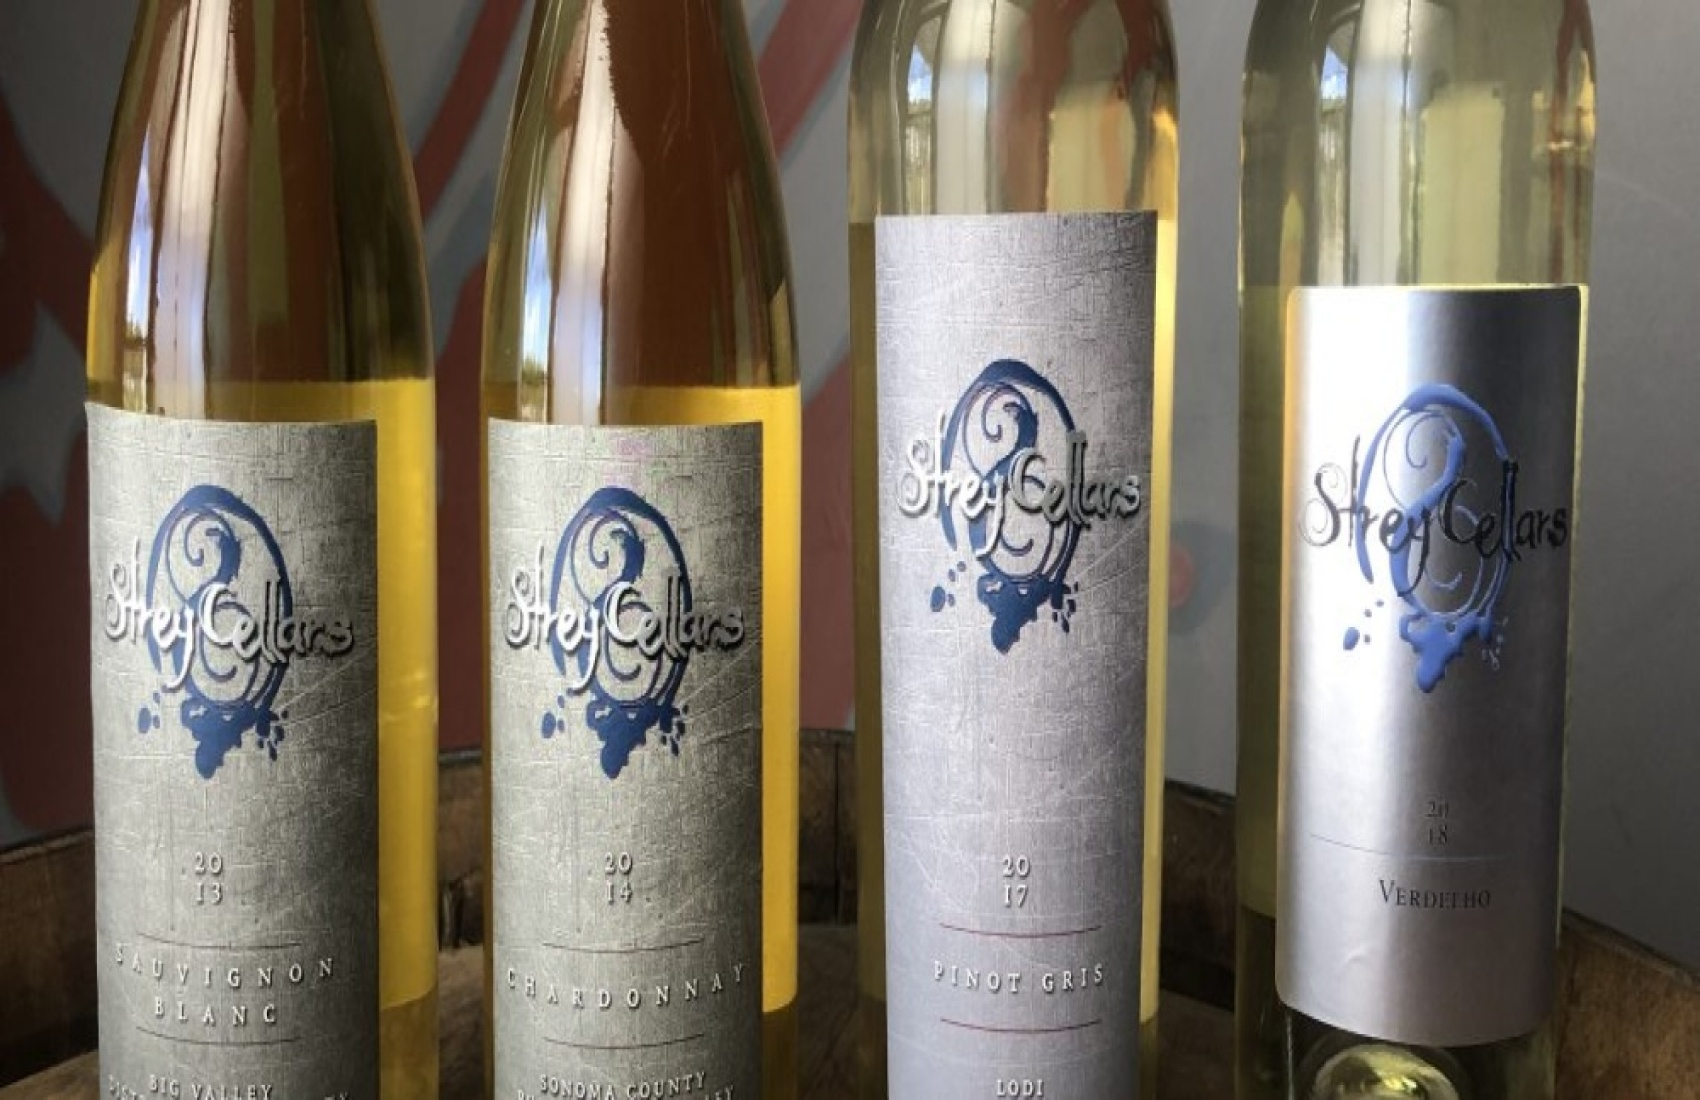wine: (476, 20, 808, 1100), (102, 20, 434, 1100), (852, 1, 1185, 1080), (1251, 1, 1584, 1079)
